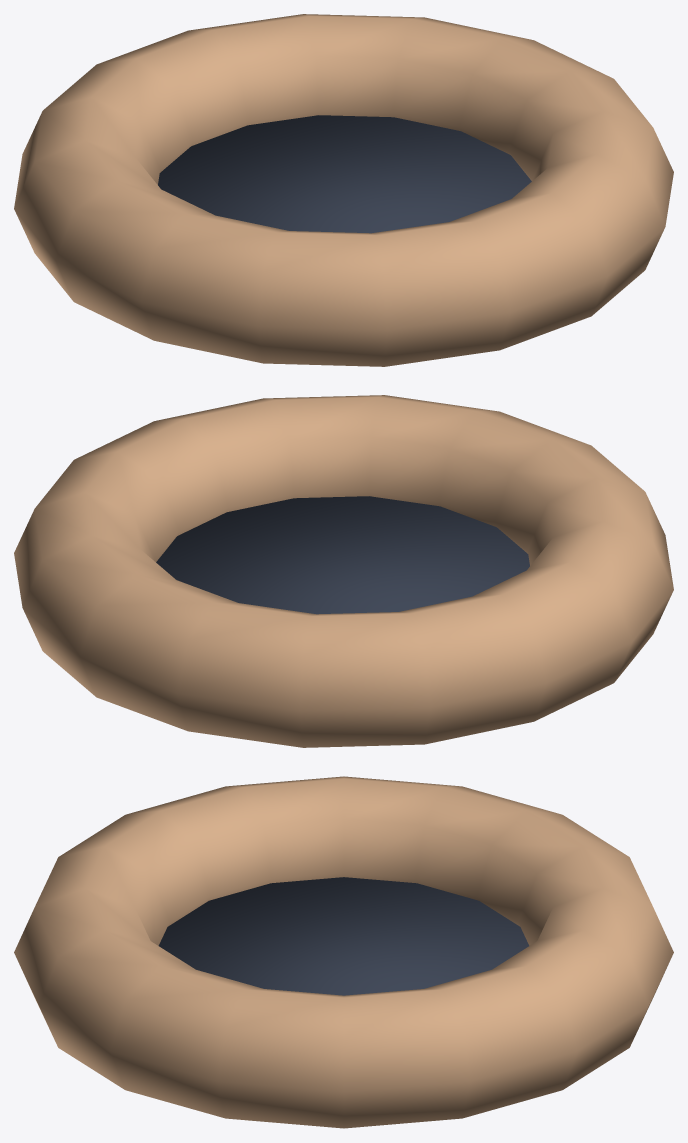
The model's file is burrow.glb.
The picture shows the model from 3 angles, top to bottom: view 1: azimuth 30°, elevation 25°; view 2: azimuth 150°, elevation 25°; view 3: azimuth 270°, elevation 25°; orthographic projection.
Visible parts, largest first — view 1: burrow, burrow_hole; view 2: burrow, burrow_hole; view 3: burrow, burrow_hole.
Boxes of the visible parts, left/top/right/bottom form: burrow: left=14, top=14, right=673, bottom=366; burrow_hole: left=158, top=115, right=531, bottom=233; burrow: left=14, top=395, right=673, bottom=747; burrow_hole: left=156, top=496, right=529, bottom=614; burrow: left=14, top=776, right=673, bottom=1128; burrow_hole: left=158, top=877, right=529, bottom=995.
Size of the model in its own units: 0.56 by 0.12 by 0.56.
